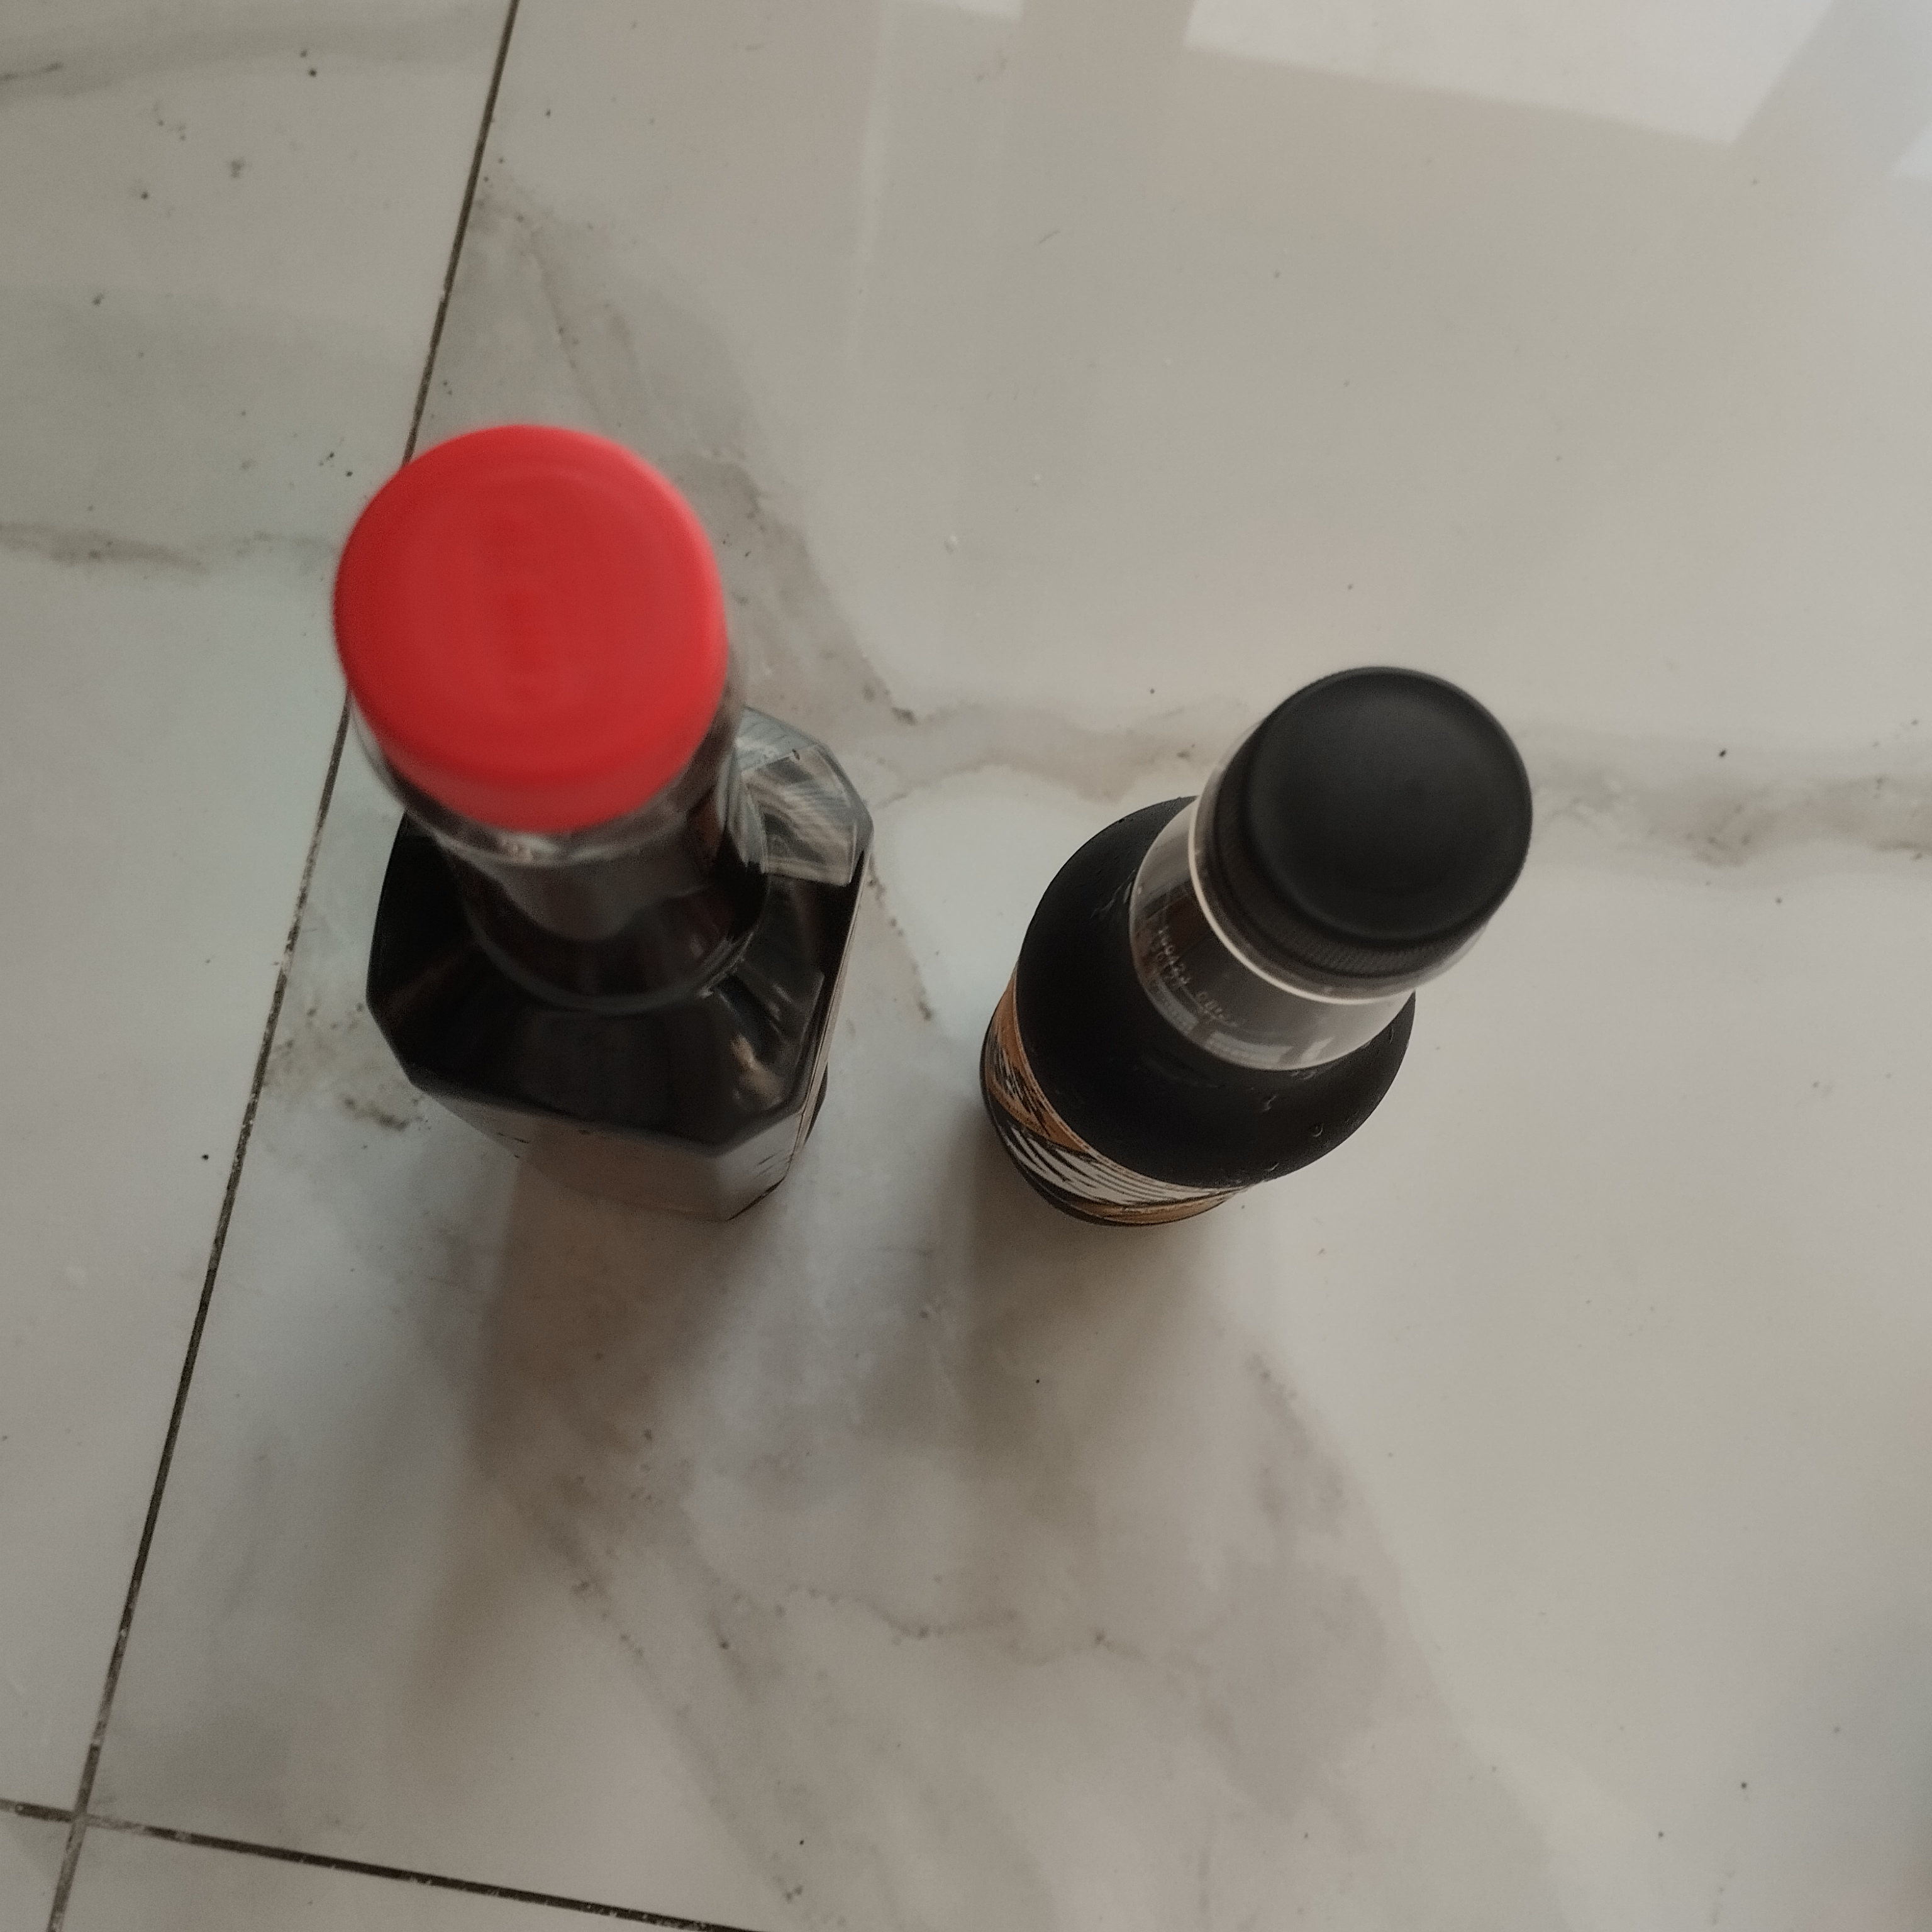247: (971, 646, 1545, 1261)
Namngu: (324, 421, 885, 1230)
